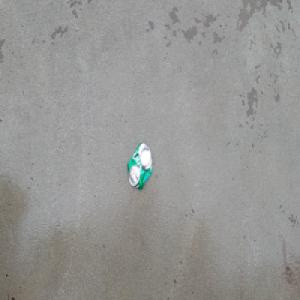SodaCan: (126, 141, 153, 191)
